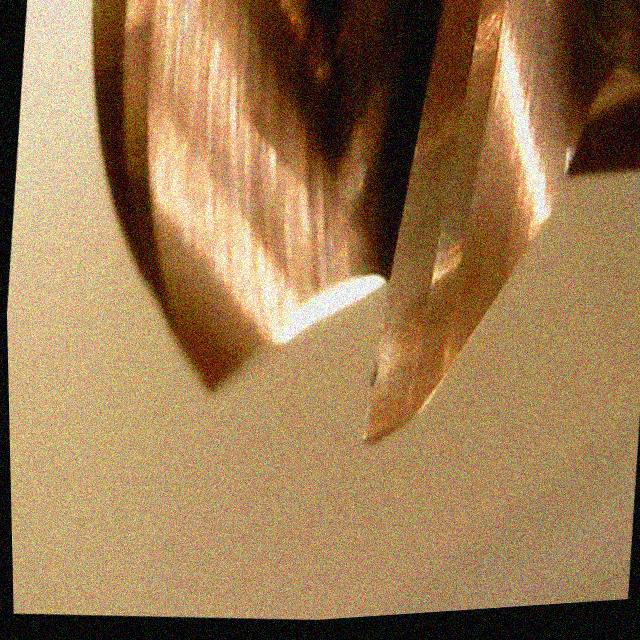Tool-wear-class-0: (333, 191, 468, 464)
